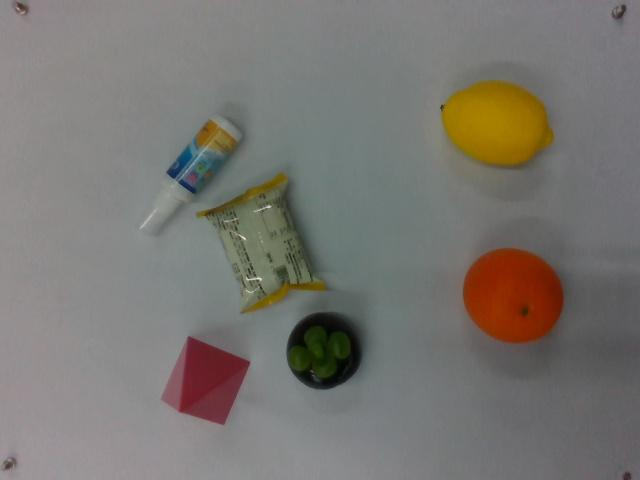dessert: (205, 171, 328, 317)
detergent: (138, 112, 248, 239)
lemon: (438, 77, 555, 171)
mangosteen: (282, 311, 367, 394)
orange: (462, 245, 566, 343)
pyramid: (158, 333, 248, 429)
